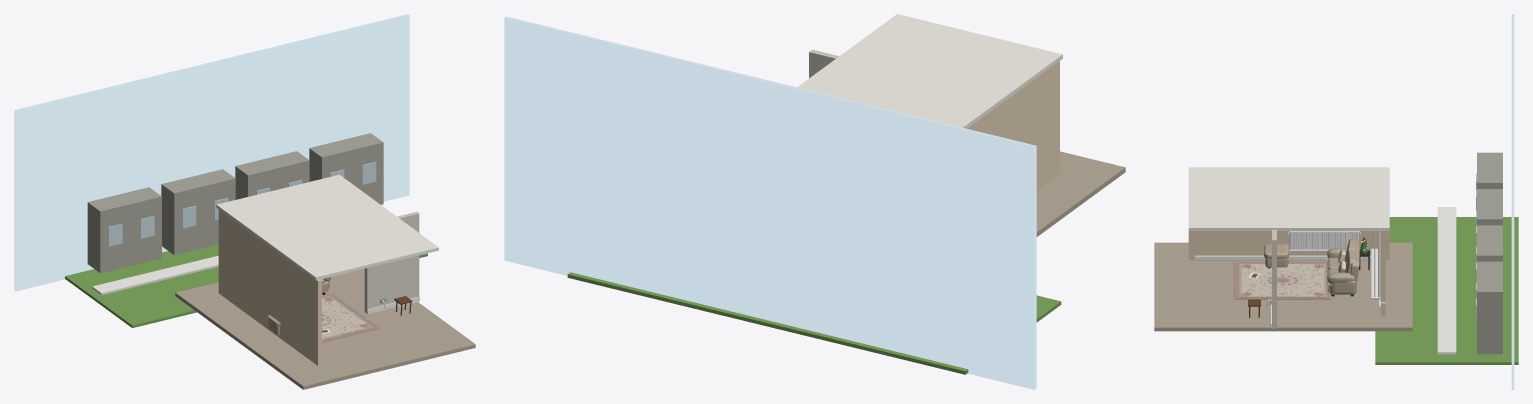
The model's file is living_room_kimi_wours.glb.
The picture shows the model from 3 angles, left to right: view 1: azimuth 30°, elevation 25°; view 2: azimuth 150°, elevation 25°; view 3: azimuth 270°, elevation 25°; orthographic projection. The views are drawn at different scales.
Parts seen in each view (by area): view 1: Outdoor / sky wall, Room / ceiling, Room / carpet, Room / left plaster, Outdoor / garden lawn, Outdoor / house, Outdoor / house.001, Outdoor / house.003, Room / foreground right partition, Outdoor / house.002, Outdoor / footpath, Rug / ivory field (+1 smaller); view 2: Outdoor / sky wall, Room / ceiling, Room / left plaster, Room / carpet, Outdoor / garden lawn; view 3: Room / carpet, Room / ceiling, Outdoor / garden lawn, Outdoor / footpath, Room / left plaster, Outdoor / house.003, Rug / ivory field, Outdoor / sky wall, Radiator / panel, Outdoor / house, Outdoor / house.001, Outdoor / house.002 (+4 smaller).
Boxes of the visible parts, x1,y1,x2,y2 form: Outdoor / sky wall: [14, 14, 409, 291]; Room / ceiling: [216, 174, 438, 280]; Room / carpet: [175, 269, 475, 389]; Room / left plaster: [218, 210, 321, 365]; Outdoor / garden lawn: [65, 244, 427, 327]; Outdoor / house: [87, 187, 161, 273]; Outdoor / house.001: [161, 169, 235, 255]; Outdoor / house.003: [309, 133, 383, 204]; Room / foreground right partition: [364, 211, 419, 313]; Outdoor / house.002: [235, 151, 309, 199]; Outdoor / footpath: [92, 255, 218, 295]; Rug / ivory field: [322, 296, 371, 338]; Outdoor / sky wall: [504, 16, 1036, 389]; Room / ceiling: [797, 14, 1062, 128]; Room / left plaster: [967, 61, 1059, 190]; Room / carpet: [1036, 151, 1125, 236]; Outdoor / garden lawn: [567, 272, 1061, 374]; Room / carpet: [1154, 242, 1412, 331]; Room / ceiling: [1188, 167, 1389, 230]; Outdoor / garden lawn: [1375, 217, 1518, 364]; Outdoor / footpath: [1437, 207, 1456, 354]; Room / left plaster: [1188, 231, 1389, 260]; Outdoor / house.003: [1477, 261, 1502, 354]; Rug / ivory field: [1240, 264, 1325, 296]; Outdoor / sky wall: [1511, 14, 1514, 389]; Radiator / panel: [1289, 232, 1358, 249]; Outdoor / house: [1477, 152, 1502, 188]; Outdoor / house.001: [1477, 189, 1502, 225]; Outdoor / house.002: [1477, 225, 1502, 261].
Size of the model in its own units: 16 by 7 by 12.7.
